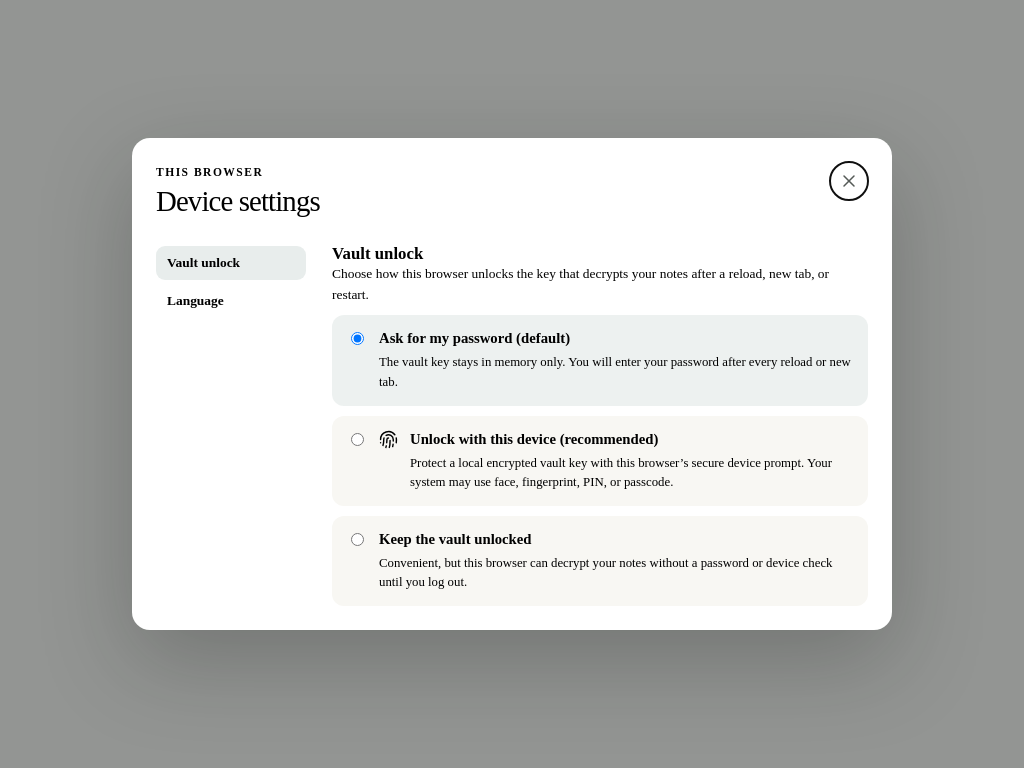
Scenario: DeviceSettingsDialog › owns the browser language preference
Click the button "Language" at [231, 301], box x1=156 y1=284 x2=306 y2=318
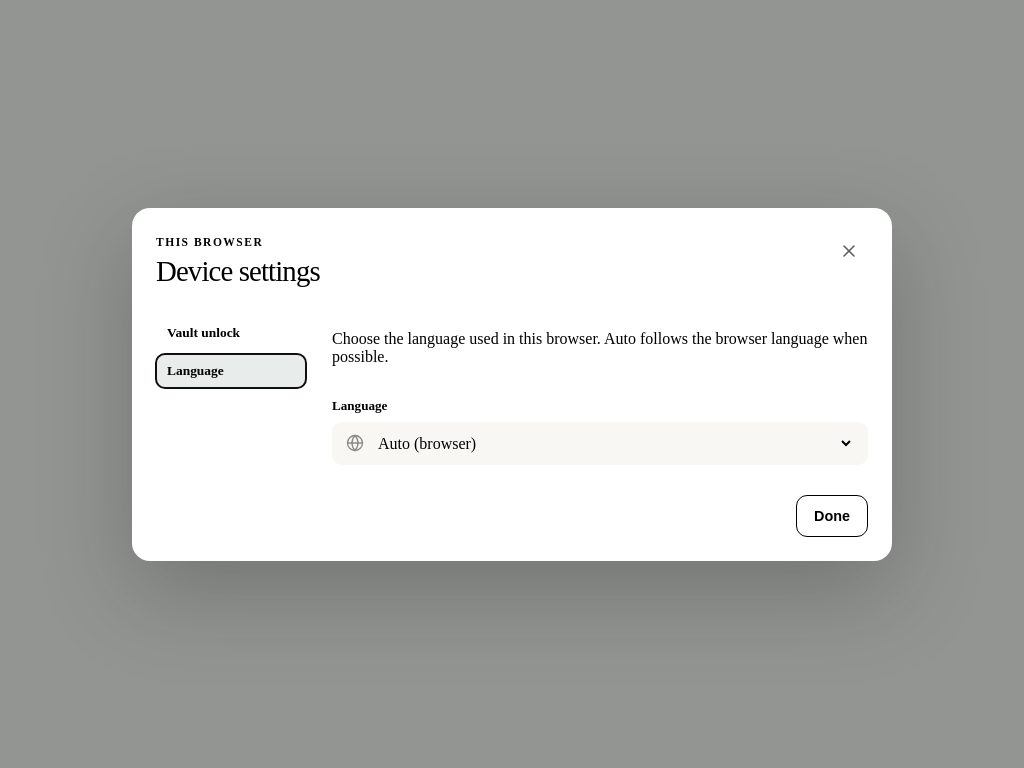
Select "Polski" in the dropdown labelled "Language" at [614, 443], box x1=374 y1=422 x2=854 y2=464
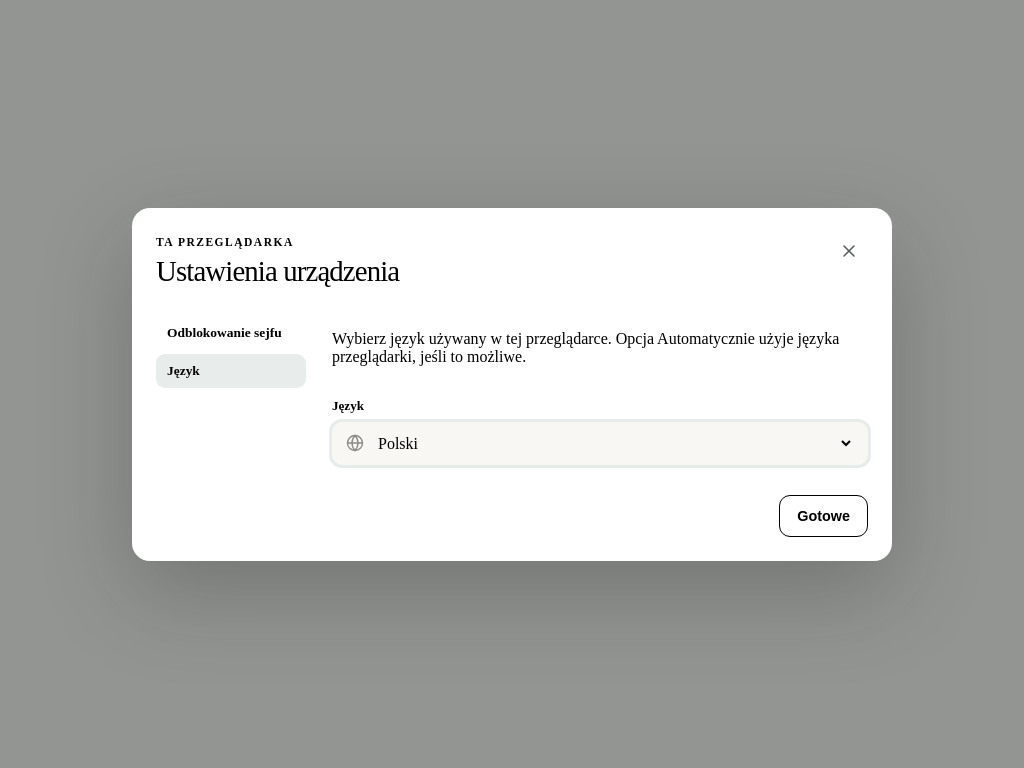
Check: the heading "Ustawienia urządzenia" is shown, box x1=156 y1=254 x2=399 y2=288
